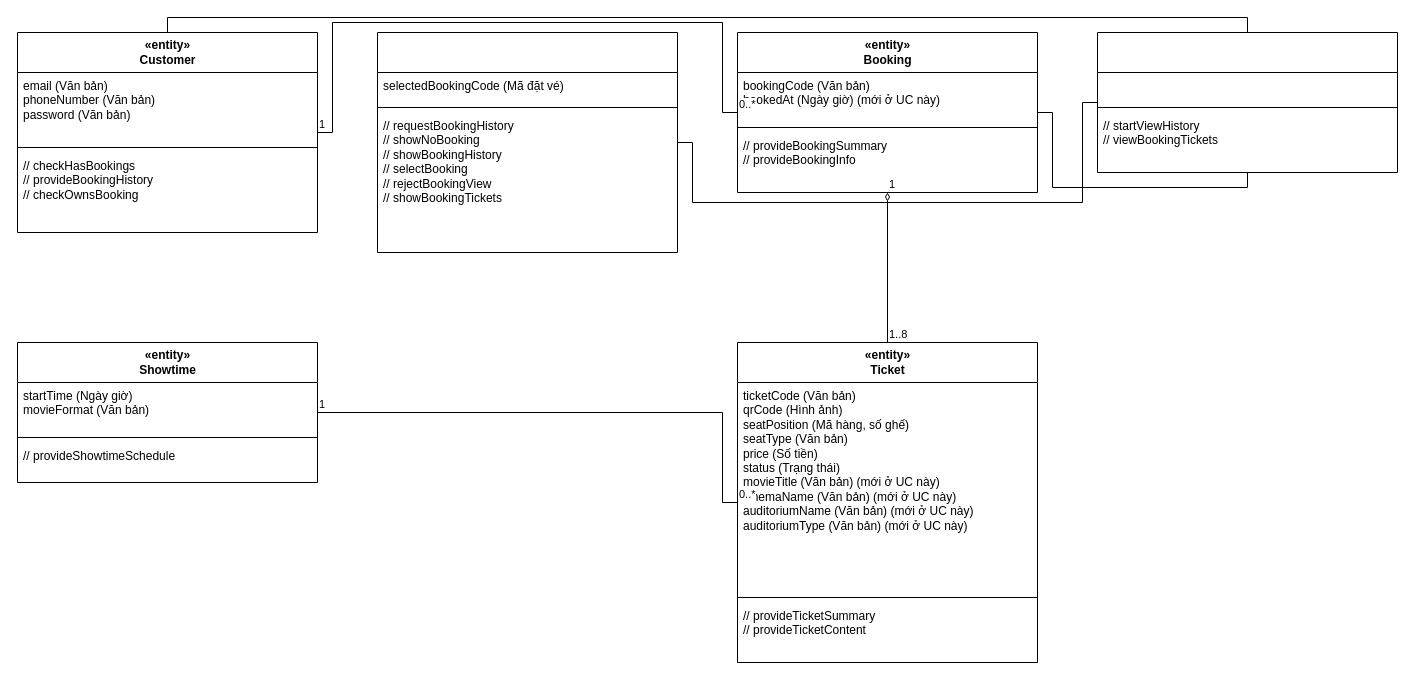
Image size: 1415x680. Some labels were removed from this diagram. Each missing label, with the box of its shape:
«boundary» ViewBookingHistoryForm: (376, 32, 678, 252)
«control» ViewBookingHistoryController: (1096, 32, 1398, 172)
